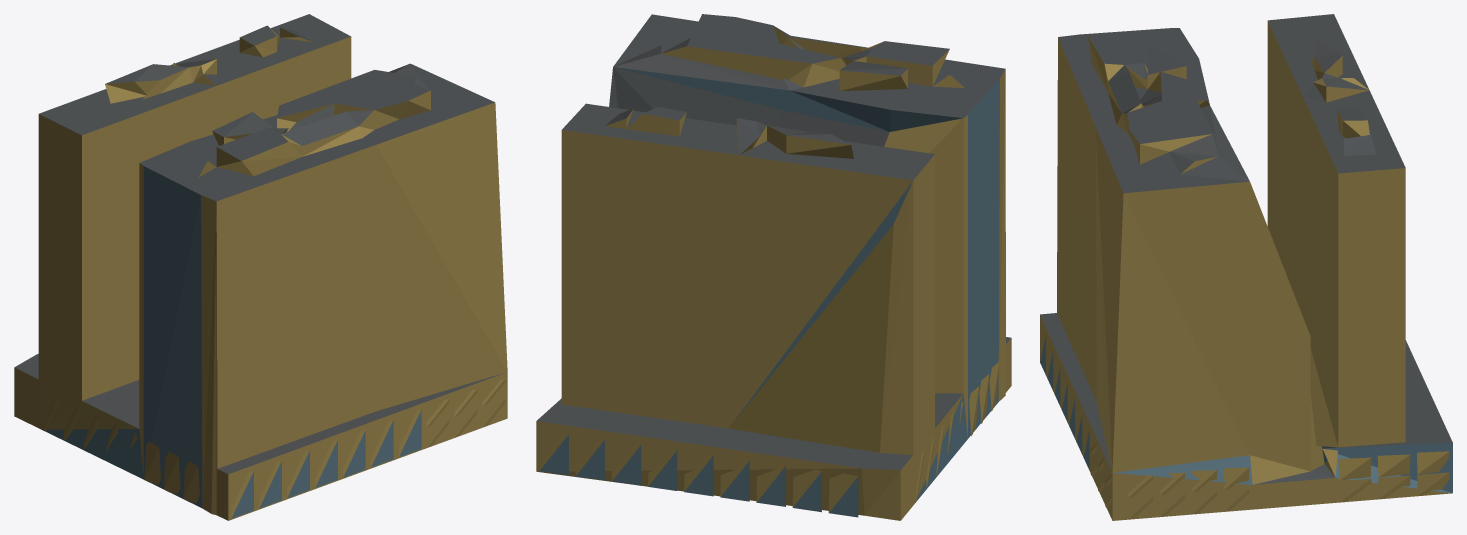
Rendered from motorkade-1.lod2.glb.
3 renders of one model, left to right at view 1: azimuth 30°, elevation 25°; view 2: azimuth 150°, elevation 25°; view 3: azimuth 270°, elevation 25°, orthographic. The views are drawn at different scales.
Visible parts, largest first — view 1: lod2; view 2: lod2; view 3: lod2.
Part boxes in pixels (box(x1,y1,x2,y2)): lod2: box(14, 14, 507, 520); lod2: box(536, 14, 1011, 520); lod2: box(1040, 14, 1452, 520).
Size of the model in its own units: 55.86 by 48.48 by 52.6.
